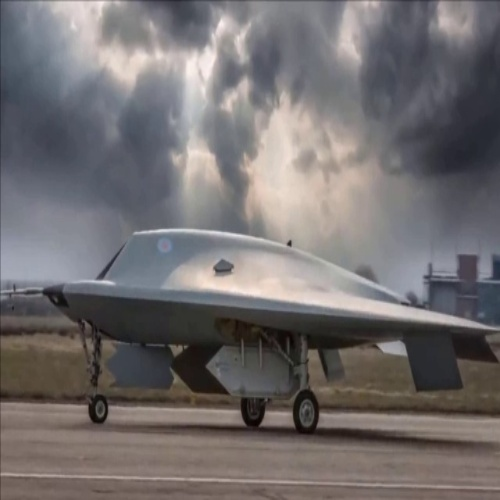uav967: (3, 222, 500, 438)
